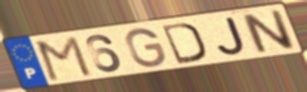6: (85, 33, 124, 73)
D: (159, 21, 208, 66)
G: (125, 27, 169, 69)
J: (216, 15, 248, 57)
M: (34, 34, 95, 83)
N: (238, 8, 299, 55)
